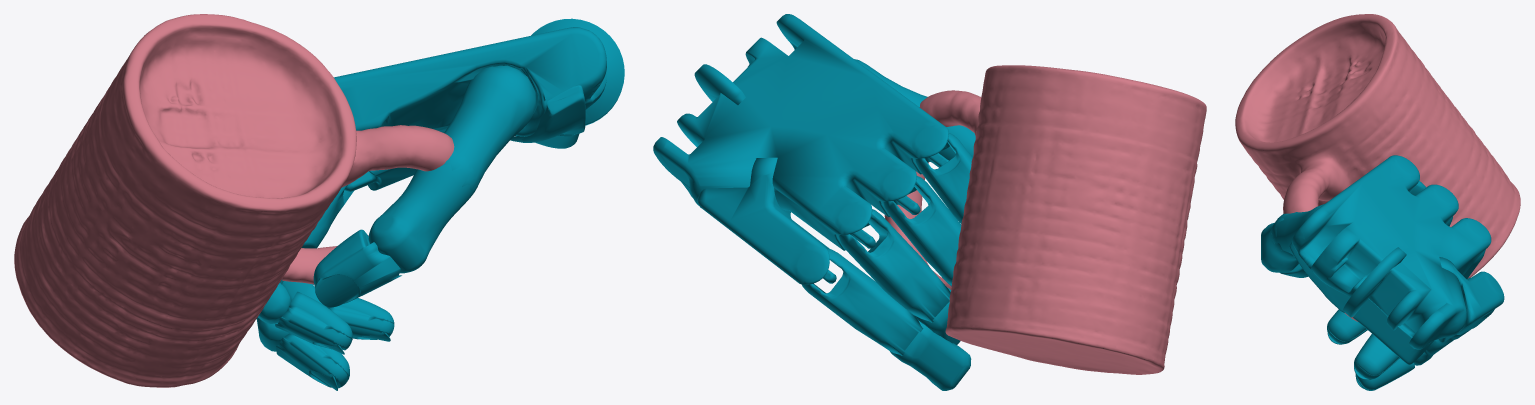
The picture shows the model from 3 angles, left to right: view 1: azimuth 30°, elevation 25°; view 2: azimuth 150°, elevation 25°; view 3: azimuth 270°, elevation 25°; orthographic projection. The views are drawn at different scales.
Visible parts, largest first — view 1: world; view 2: world; view 3: world.
Part boxes in pixels (x1,y1,x2,y2): world: (14,14,624,390); world: (653,14,1206,390); world: (1235,14,1520,390).
Bounding box in the file's own units: 0.2327 × 0.1562 × 0.1315.
